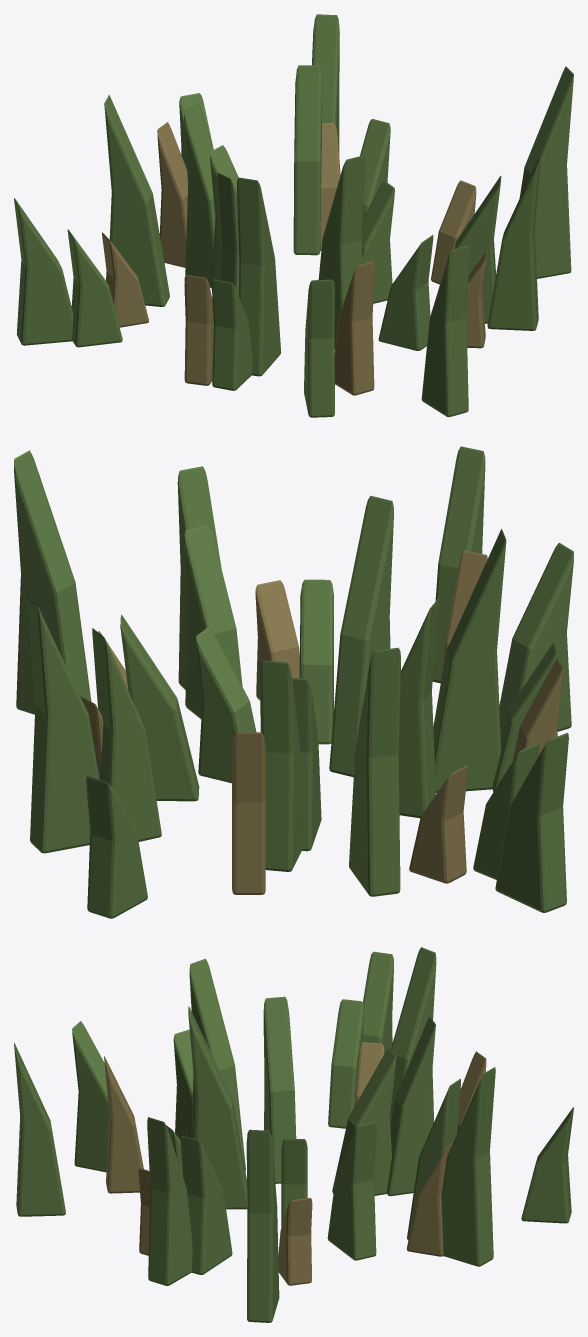
The model's file is GroundPlant_GrassShort.fbx.
3 renders of one model, top to bottom at view 1: azimuth 30°, elevation 25°; view 2: azimuth 150°, elevation 25°; view 3: azimuth 270°, elevation 25°, orthographic. The views are drawn at different scales.
Parts seen in each view (by area): view 1: Grass tuft blade.067, Grass tuft blade.079, Grass tuft blade.071, Grass tuft blade.074, Grass tuft blade.078, Grass tuft blade.069, Grass tuft blade.062, Grass tuft blade.075, Grass tuft blade.066, Grass tuft dry blade.026, Grass tuft blade.073, Grass tuft blade.076 (+15 smaller); view 2: Grass tuft blade.071, Grass tuft blade.063, Grass tuft blade.067, Grass tuft blade.079, Grass tuft blade.075, Grass tuft blade.069, Grass tuft blade.066, Grass tuft blade.062, Grass tuft blade.061, Grass tuft blade.073, Grass tuft blade.070, Grass tuft blade.064 (+14 smaller); view 3: Grass tuft blade.063, Grass tuft blade.078, Grass tuft blade.079, Grass tuft blade.075, Grass tuft blade.074, Grass tuft blade.061, Grass tuft blade.066, Grass tuft blade.077, Grass tuft blade.070, Grass tuft blade.073, Grass tuft blade.064, Grass tuft blade.065 (+13 smaller).
Boxes of the visible parts, <box> form: Grass tuft blade.067: <box>104,95,169,306</box>; Grass tuft blade.079: <box>519,66,573,278</box>; Grass tuft blade.071: <box>237,177,281,376</box>; Grass tuft blade.074: <box>421,245,469,417</box>; Grass tuft blade.078: <box>487,154,540,330</box>; Grass tuft blade.069: <box>14,198,73,345</box>; Grass tuft blade.062: <box>293,65,321,255</box>; Grass tuft blade.075: <box>318,155,365,349</box>; Grass tuft blade.066: <box>184,102,215,288</box>; Grass tuft dry blade.026: <box>334,261,374,395</box>; Grass tuft blade.073: <box>304,279,335,417</box>; Grass tuft blade.076: <box>378,235,433,350</box>; Grass tuft blade.071: <box>433,529,506,793</box>; Grass tuft blade.063: <box>26,596,99,853</box>; Grass tuft blade.067: <box>349,647,400,896</box>; Grass tuft blade.079: <box>14,450,91,714</box>; Grass tuft blade.075: <box>329,495,393,777</box>; Grass tuft blade.069: <box>495,732,568,912</box>; Grass tuft blade.066: <box>259,660,303,871</box>; Grass tuft blade.062: <box>92,628,161,841</box>; Grass tuft blade.061: <box>120,614,199,801</box>; Grass tuft blade.073: <box>499,542,573,738</box>; Grass tuft blade.070: <box>398,598,439,818</box>; Grass tuft blade.064: <box>86,776,147,918</box>; Grass tuft blade.063: <box>441,1067,495,1266</box>; Grass tuft blade.078: <box>147,1117,192,1285</box>; Grass tuft blade.079: <box>246,1129,279,1322</box>; Grass tuft blade.075: <box>188,1006,247,1209</box>; Grass tuft blade.074: <box>14,1043,65,1216</box>; Grass tuft blade.061: <box>327,1121,377,1260</box>; Grass tuft blade.066: <box>386,1016,435,1196</box>; Grass tuft blade.077: <box>180,1135,232,1274</box>; Grass tuft blade.070: <box>263,996,296,1183</box>; Grass tuft blade.073: <box>72,1021,108,1172</box>; Grass tuft blade.064: <box>521,1107,573,1223</box>; Grass tuft blade.065: <box>332,1047,396,1195</box>.
Bounding box in the file's own units: 1.07 × 0.4091 × 1.07.
